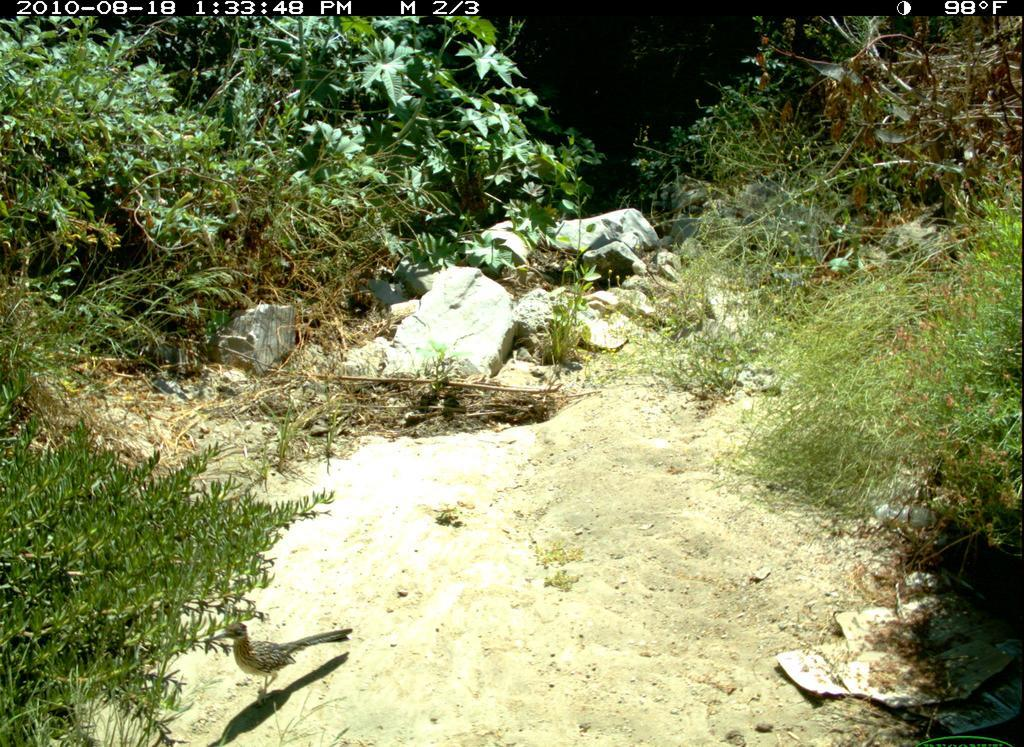bird: (216, 601, 360, 720)
